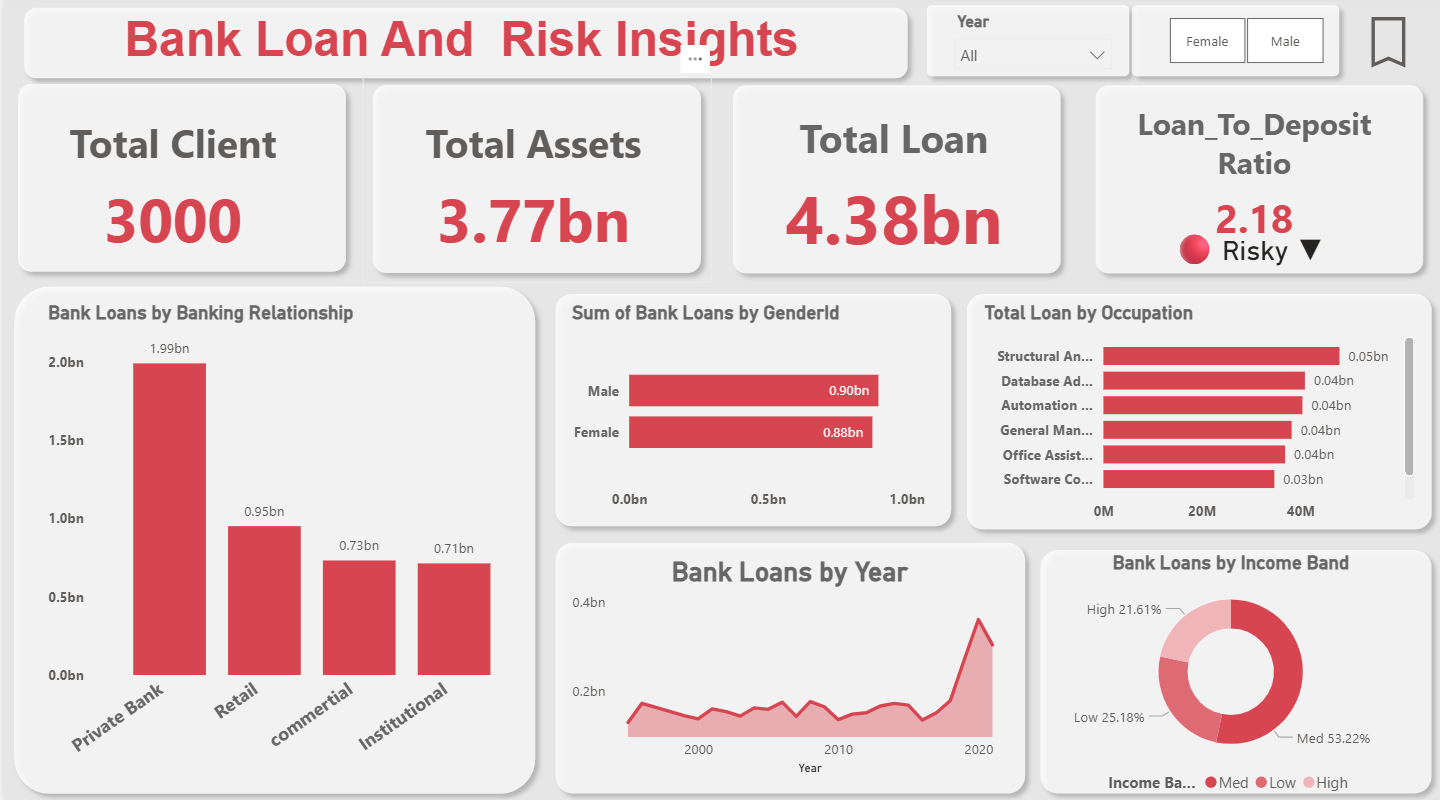

The dashboard page shown, as its layout file describes it:
{"tool":"powerbi","page":{"name":"Loan Analysis","canvas":[1280,720],"ordinal":0},"visuals":[{"type":"shape","box":[8.6,2.5,804.9,81],"z":0},{"type":"shape","box":[0,250.3,482.2,469.9],"z":1000},{"type":"shape","box":[481.6,478.9,436.4,241.5],"z":2000},{"type":"shape","box":[812.9,0,198.6,81.4],"z":3000},{"type":"shape","box":[913.9,485.8,366.4,234.6],"z":4000},{"type":"textbox","box":[34.4,9.8,746,66.3],"z":5000},{"type":"clusteredColumnChart","title":" Bank Loans by Banking Relationship","fields":{"Category":["bank_risk_data (1).BRId"],"Y":["bank_risk_data (1).Total Loan"]},"box":[34.3,273.1,440.5,424],"z":6000},{"type":"donutChart","title":" Bank Loans by Income Band","fields":{"Category":["bank_risk_data (1).Income Band"],"Y":["bank_risk_data (1).Total Loan"]},"box":[918,495.4,348.5,225],"z":7000},{"type":"slicer","fields":{"Values":["bank_risk_data (1).Joined Bank.Variation.Date Hierarchy.Year"]},"box":[835.7,10,160,57.1],"z":8000},{"type":"lineChart","title":" Bank Loans by Year","fields":{"Category":["bank_risk_data (1).Joined Bank.Variation.Date Hierarchy.Year"],"Y":["bank_risk_data (1).Total Loan"]},"box":[500.6,499.4,397.5,200],"z":9000},{"type":"shape","box":[848,256.6,432.2,227.8],"z":10000},{"type":"clusteredBarChart","fields":{"Category":["bank_risk_data (1).Occupation"],"Y":["bank_risk_data (1).Total Loan"]},"box":[868.6,273.1,392.5,205.8],"z":11000},{"type":"actionButton","box":[1204.3,12.9,68.6,57.1],"z":12000},{"type":"shape","box":[995.7,0,202.9,81.4],"z":13000},{"type":"card","fields":{"Values":["bank_risk_data (1).Loan_to_Deposit_Status"]},"box":[1022.9,232.9,190,14.3],"z":14000},{"type":"shape","box":[481.6,256.6,370.5,225],"z":15000},{"type":"clusteredBarChart","fields":{"Category":["bank_risk_data (1).GenderId"],"Y":["Sum(bank_risk_data (1).Bank Loans)"]},"box":[500.9,273.1,334.8,194.9],"z":16000},{"type":"shape","box":[3,70,310.1,185.2],"z":17000},{"type":"shape","box":[962.9,71.4,310,185.7],"z":18000},{"type":"shape","box":[640,71.4,310,185.7],"z":19000},{"type":"shape","box":[319.7,71.4,310.1,185.2],"z":20000},{"type":"cardVisual","fields":{"Data":["CountNonNull(bank_risk_data (1).client_id)","Sum(bank_risk_data (1).Total_Assets)","bank_risk_data (1).Total Loan","bank_risk_data (1).Loan_to_Deposit Ratio"]},"box":[0,75.7,1264.3,165.7],"z":21000},{"type":"slicer","fields":{"Values":["bank_risk_data (1).GenderId"]},"box":[1011.4,12.9,187.1,54.3],"z":22000},{"type":"card","fields":{"Values":["bank_risk_data (1).Loan_to_Deposit_Status"]},"box":[995.7,197.1,228.6,60],"z":23000}]}

Visuals, with their boxes in screenshot pixels (x1, y1, x2, y2), scaled from the page's 1280x720 canvas onto the 1440x800 screenshot:
shape: left=10, top=3, right=915, bottom=93
shape: left=0, top=278, right=542, bottom=799
shape: left=542, top=532, right=1033, bottom=799
shape: left=915, top=0, right=1138, bottom=90
shape: left=1028, top=540, right=1439, bottom=799
textbox: left=39, top=11, right=878, bottom=85
" Bank Loans by Banking Relationship" clusteredColumnChart: left=39, top=303, right=534, bottom=775
" Bank Loans by Income Band" donutChart: left=1033, top=550, right=1425, bottom=799
slicer - bank_risk_data (1).Joined Bank.Variation.Date Hierarchy.Year: left=940, top=11, right=1120, bottom=75
" Bank Loans by Year" lineChart: left=563, top=555, right=1010, bottom=777
shape: left=954, top=285, right=1439, bottom=538
clusteredBarChart - bank_risk_data (1).Occupation x bank_risk_data (1).Total Loan: left=977, top=303, right=1419, bottom=532
actionButton: left=1355, top=14, right=1432, bottom=78
shape: left=1120, top=0, right=1348, bottom=90
card - bank_risk_data (1).Loan_to_Deposit_Status: left=1151, top=259, right=1365, bottom=275
shape: left=542, top=285, right=959, bottom=535
clusteredBarChart - bank_risk_data (1).GenderId x Sum(bank_risk_data (1).Bank Loans): left=564, top=303, right=940, bottom=520
shape: left=3, top=78, right=352, bottom=284
shape: left=1083, top=79, right=1432, bottom=286
shape: left=720, top=79, right=1069, bottom=286
shape: left=360, top=79, right=709, bottom=285
cardVisual - CountNonNull(bank_risk_data (1).client_id) x Sum(bank_risk_data (1).Total_Assets): left=0, top=84, right=1422, bottom=268
slicer - bank_risk_data (1).GenderId: left=1138, top=14, right=1348, bottom=75
card - bank_risk_data (1).Loan_to_Deposit_Status: left=1120, top=219, right=1377, bottom=286
